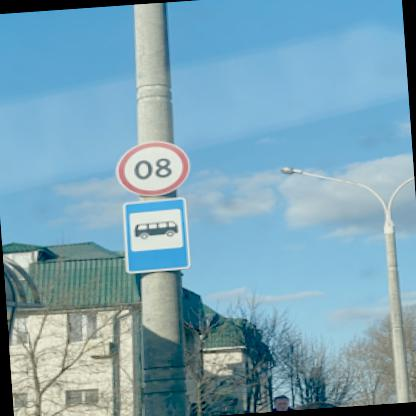speedlimit: (117, 138, 193, 196)
